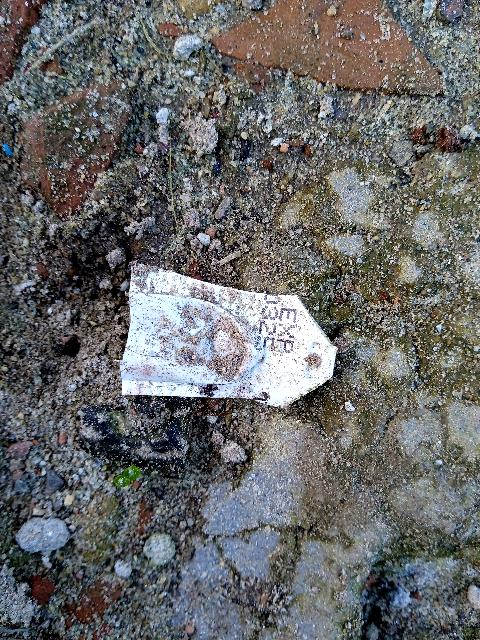medicine: (124, 259, 336, 413)
